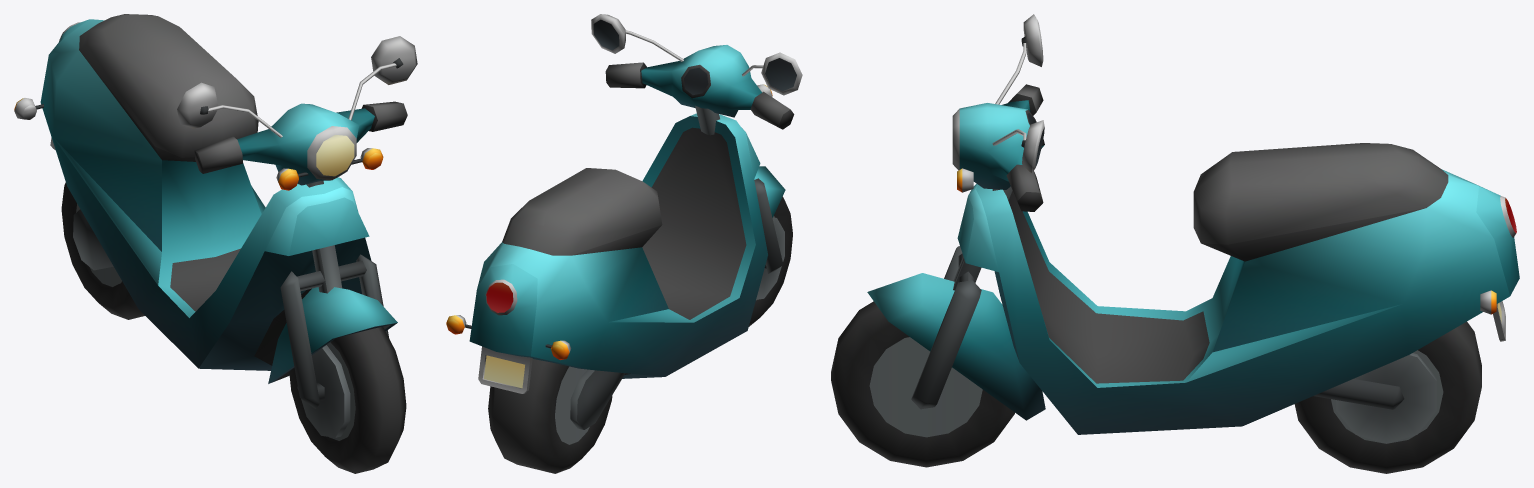
The model's file is Scooter_1A.fbx.
3 renders of one model, left to right at view 1: azimuth 30°, elevation 25°; view 2: azimuth 150°, elevation 25°; view 3: azimuth 270°, elevation 25°, orthographic. The views are drawn at different scales.
Visible parts, largest first — view 1: Scooter_1A_Body, Scooter_1A_Handlebars, Scooter_1A_Wheel.F, Scooter_1A_Wheel.R; view 2: Scooter_1A_Body, Scooter_1A_Handlebars, Scooter_1A_Wheel.R, Scooter_1A_Wheel.F; view 3: Scooter_1A_Body, Scooter_1A_Handlebars, Scooter_1A_Wheel.F, Scooter_1A_Wheel.R.
Boxes of the visible parts, x1=… form: Scooter_1A_Body: x1=14, y1=14, x2=371, y2=370; Scooter_1A_Handlebars: x1=177, y1=36, x2=417, y2=408; Scooter_1A_Wheel.F: x1=289, y1=326, x2=406, y2=473; Scooter_1A_Wheel.R: x1=61, y1=182, x2=144, y2=319; Scooter_1A_Body: x1=446, y1=113, x2=767, y2=429; Scooter_1A_Handlebars: x1=591, y1=14, x2=802, y2=273; Scooter_1A_Wheel.R: x1=488, y1=359, x2=612, y2=473; Scooter_1A_Wheel.F: x1=749, y1=196, x2=792, y2=326; Scooter_1A_Body: x1=957, y1=143, x2=1519, y2=434; Scooter_1A_Handlebars: x1=867, y1=14, x2=1045, y2=420; Scooter_1A_Wheel.F: x1=831, y1=301, x2=1014, y2=467; Scooter_1A_Wheel.R: x1=1294, y1=321, x2=1481, y2=473.
Size of the model in its own units: 1.13 by 1.66 by 2.61.
1 material, 1 textured.
